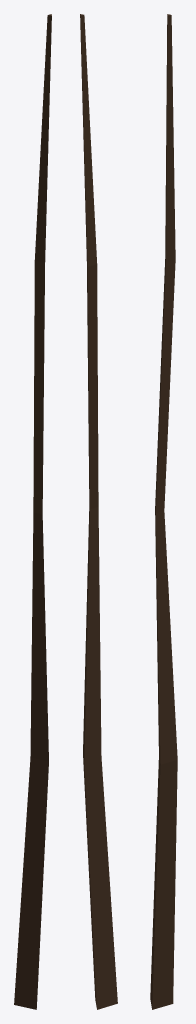
The model's file is fishing_rod_mat.fbx.
The picture shows the model from 3 angles, left to right: view 1: azimuth 30°, elevation 25°; view 2: azimuth 210°, elevation 25°; view 3: azimuth 330°, elevation 25°; orthographic projection.
Visible parts, largest first — view 1: fishing_rod_mat; view 2: fishing_rod_mat; view 3: fishing_rod_mat.
Boxes of the visible parts, x1,y1,x2,y2 form: fishing_rod_mat: (14, 14, 51, 1009); fishing_rod_mat: (80, 14, 117, 1009); fishing_rod_mat: (150, 14, 177, 1009).
Bounding box in the file's own units: 5.11 × 159 × 3.9.
